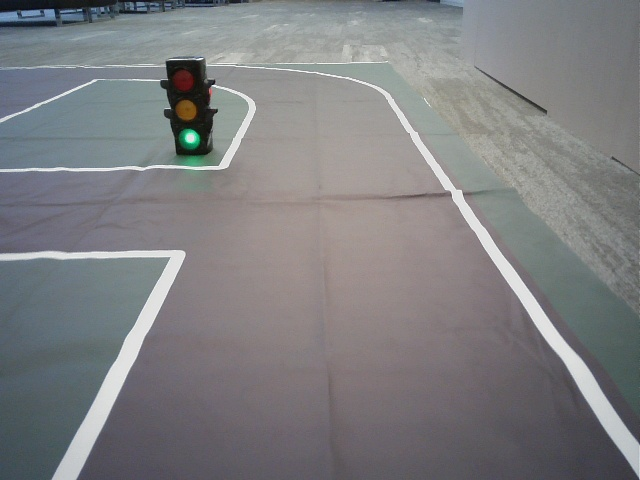green: (166, 62, 201, 152)
